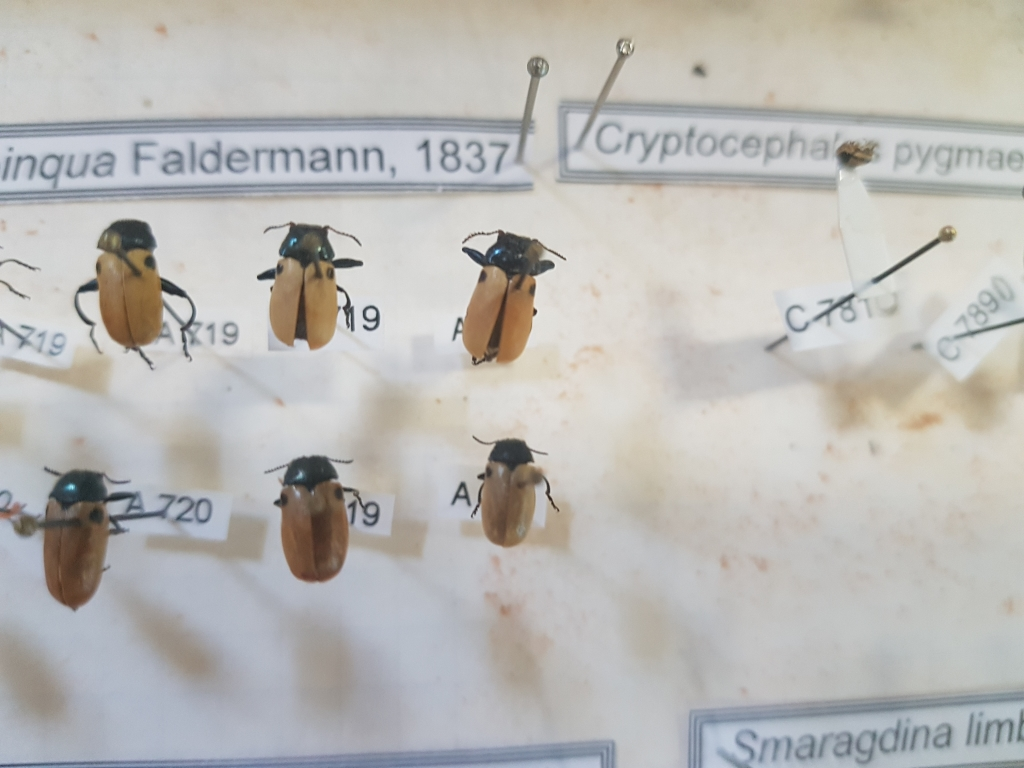Labidostomis_propinqua: (73, 213, 202, 376), (452, 226, 569, 377), (27, 458, 142, 611), (254, 212, 367, 355), (266, 447, 372, 588), (467, 424, 567, 547)
